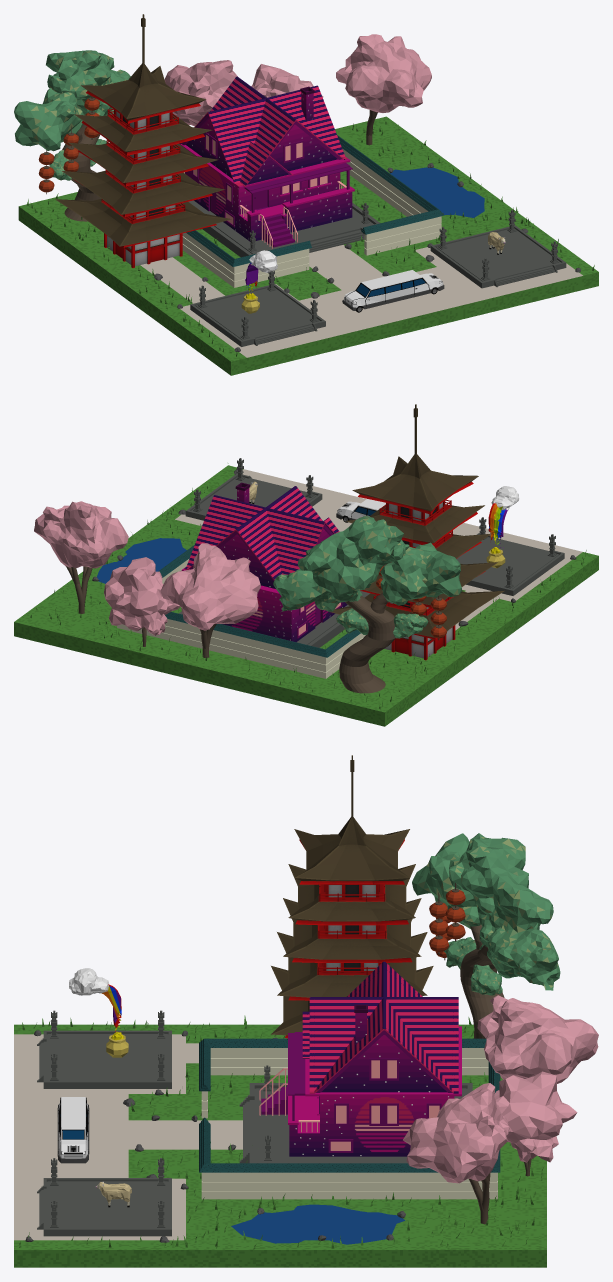
3 renders of one model, top to bottom at view 1: azimuth 30°, elevation 25°; view 2: azimuth 150°, elevation 25°; view 3: azimuth 270°, elevation 25°, orthographic. The views are drawn at different scales.
Visible parts, largest first — view 1: Cube.005, Cube.156, VEHICLES_LIMOUSINE, OBJRANDOM_RAINBOW; view 2: Cube.005, Cube.156, OBJRANDOM_RAINBOW, VEHICLES_LIMOUSINE; view 3: Cube.005, Cube.156, VEHICLES_LIMOUSINE, OBJRANDOM_RAINBOW.
Boxes of the visible parts, x1,y1,x2,y2 form: Cube.005: (14,14,598,375); Cube.156: (179,76,354,248); VEHICLES_LIMOUSINE: (342,270,444,312); OBJRANDOM_RAINBOW: (241,250,277,313); Cube.005: (14,404,598,726); Cube.156: (181,482,347,642); OBJRANDOM_RAINBOW: (486,486,519,568); VEHICLES_LIMOUSINE: (336,499,385,522); Cube.005: (14,755,598,1267); Cube.156: (259,961,461,1156); VEHICLES_LIMOUSINE: (57,1097,89,1163); OBJRANDOM_RAINBOW: (69,968,128,1057).
Bounding box in the file's own units: 4528 × 2668 × 4389.
47 materials, 7 textured.
